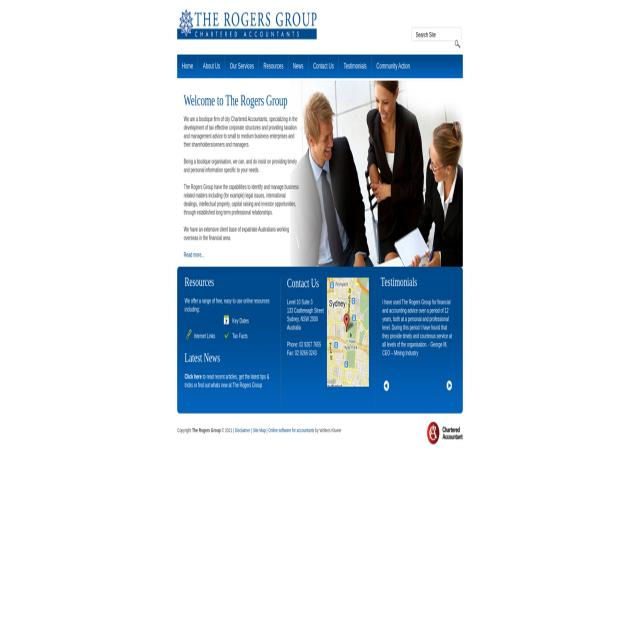button: (327, 278, 369, 387), (186, 328, 192, 341), (223, 315, 230, 325), (224, 330, 230, 339), (455, 40, 460, 49)
field: (416, 30, 456, 40)
